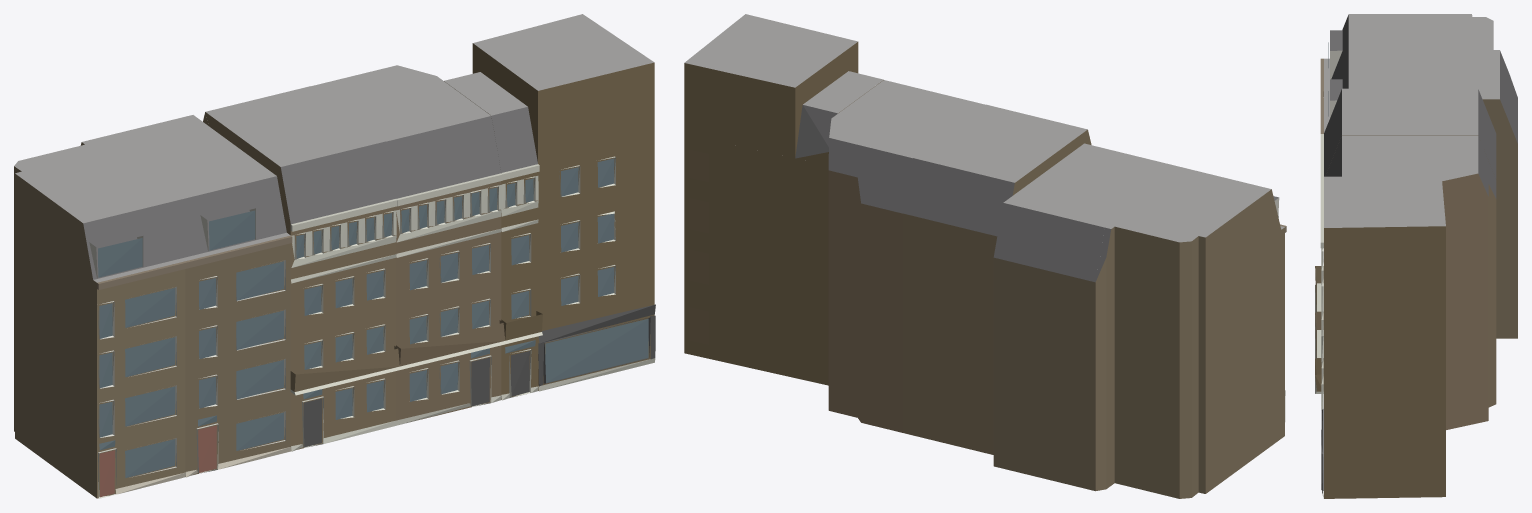
File: chunk-face-evertsen-152-160.lod2.glb
3 views of the same model, side by side, from view 1: azimuth 30°, elevation 25°; view 2: azimuth 150°, elevation 25°; view 3: azimuth 270°, elevation 25° (orthographic). The views are drawn at different scales.
Visible parts, largest first — view 1: lod2; view 2: lod2; view 3: lod2.
Part boxes in pixels (x1,y1,x2,y2): lod2: [14, 14, 655, 498]; lod2: [684, 14, 1286, 498]; lod2: [1315, 14, 1517, 498].
Bounding box in the file's own units: 33.25 × 17.1 × 11.6.
